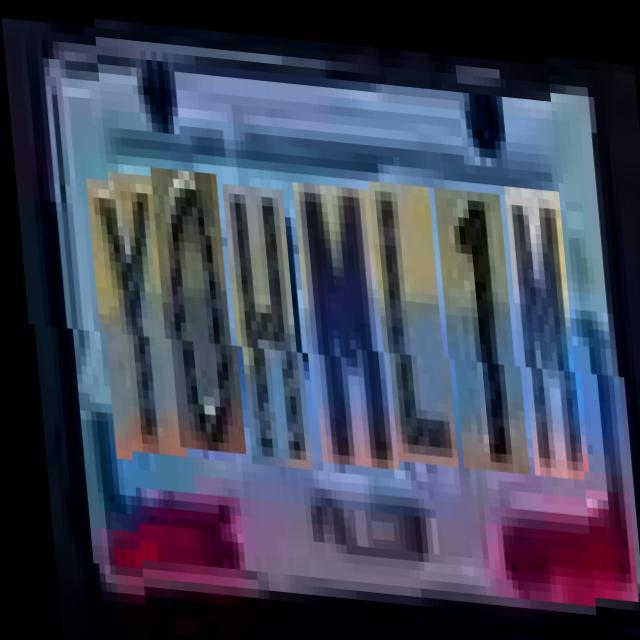1: (437, 179, 522, 464)
H: (224, 180, 304, 464)
L: (371, 174, 451, 458)
M: (295, 176, 391, 462), (507, 176, 582, 469)
O: (153, 165, 238, 450)
Y: (88, 168, 178, 454)
